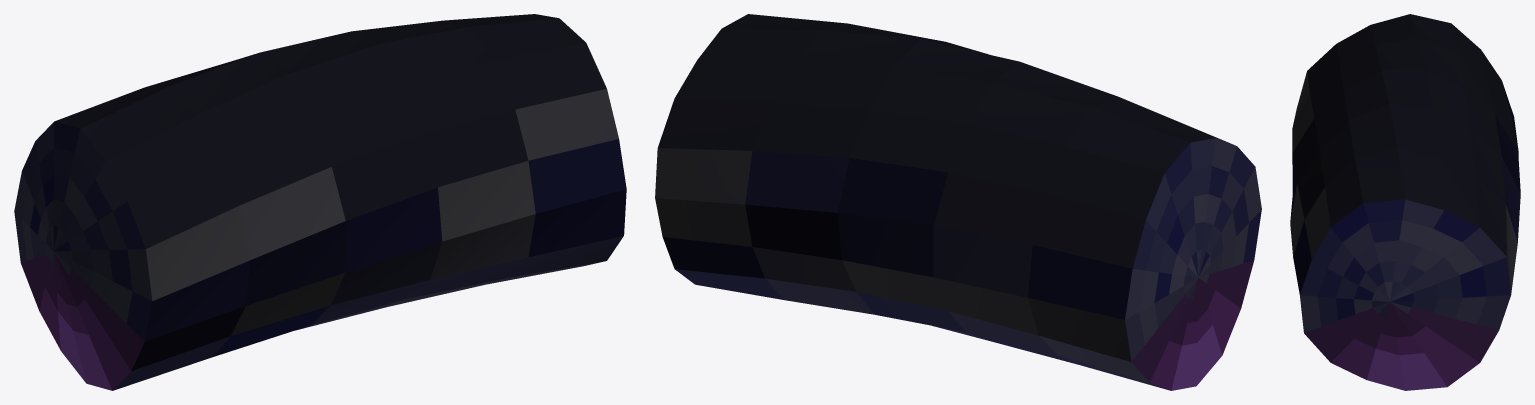
The model's file is Duskwood.glb.
The picture shows the model from 3 angles, left to right: view 1: azimuth 30°, elevation 25°; view 2: azimuth 150°, elevation 25°; view 3: azimuth 270°, elevation 25°; orthographic projection. The views are drawn at different scales.
Visible parts, largest first — view 1: Duskwood; view 2: Duskwood; view 3: Duskwood.
Boxes of the visible parts, <box> form: Duskwood: <box>14,14,626,390</box>; Duskwood: <box>655,14,1261,390</box>; Duskwood: <box>1290,14,1520,390</box>.
Bounding box in the file's own units: 1.18 × 0.6077 × 0.5866.
